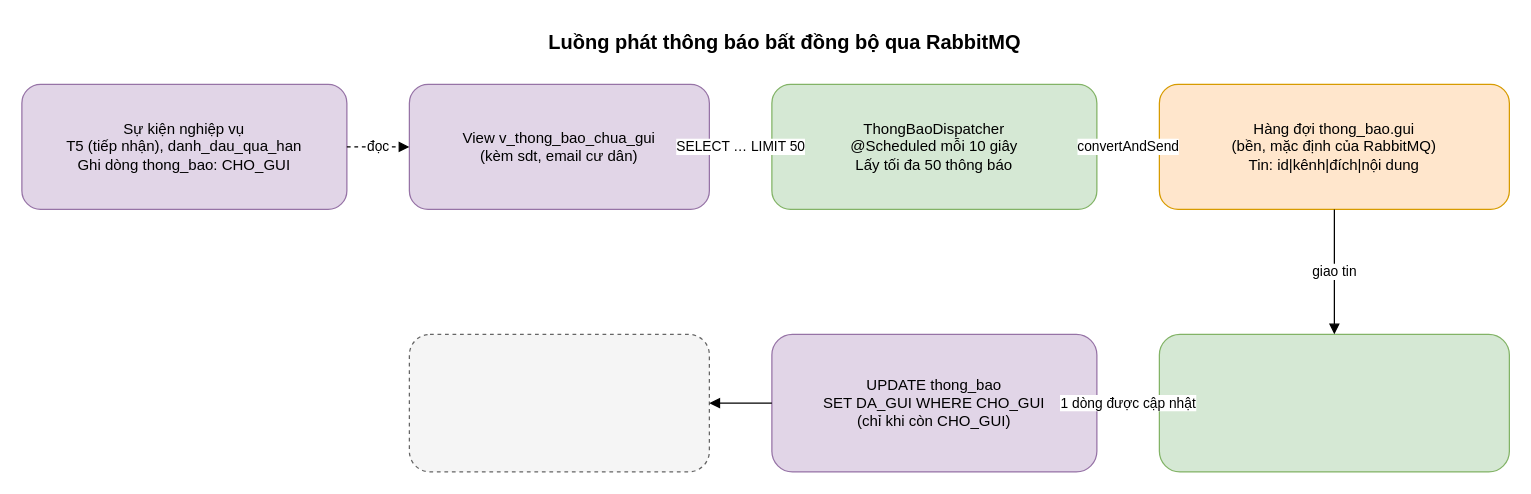
This 1531x494 diagram has some shape labels left out. The centre of each missing label's shape, as x and y in pixels:
Ghi log "[GIA LAP kênh → đích]" (giả lập SMS/Email/APP): pixel 558 402
ThongBaoConsumer @RabbitListener: pixel 1333 402
